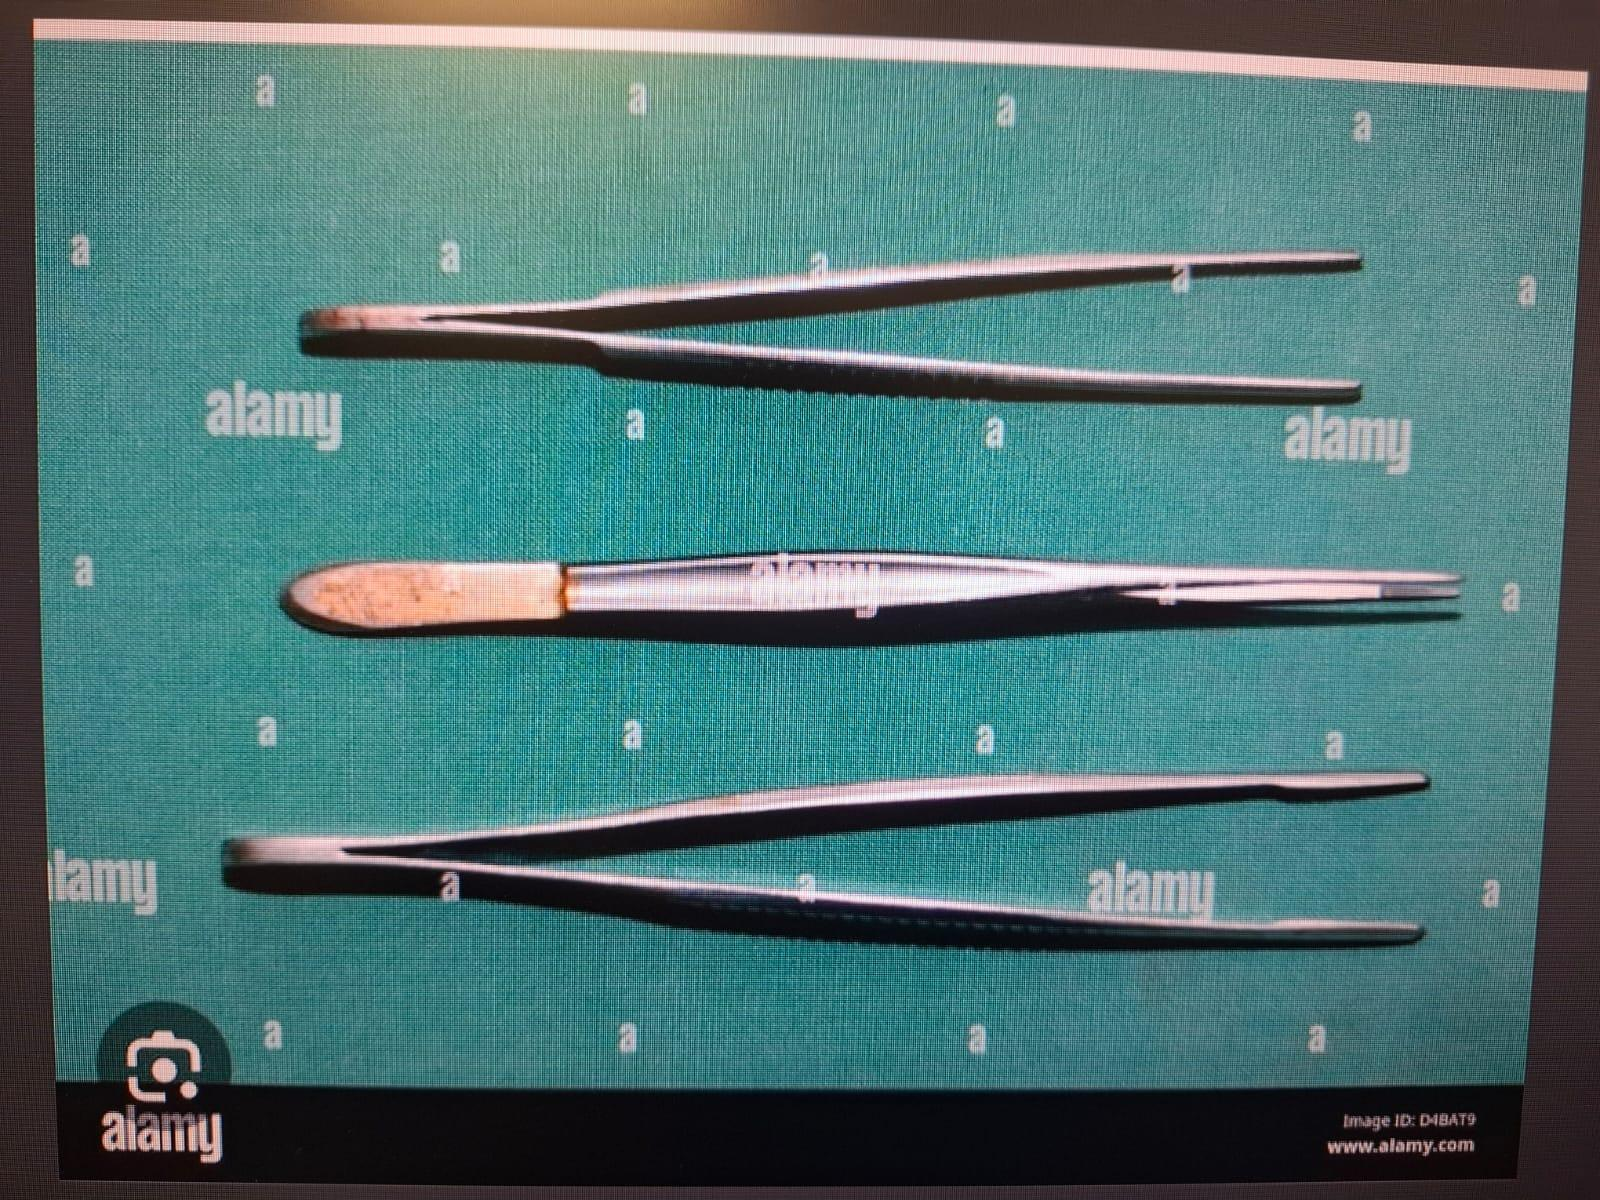Disscting Forceps: (214, 750, 1464, 982), (280, 222, 1396, 424), (283, 511, 1494, 679)
